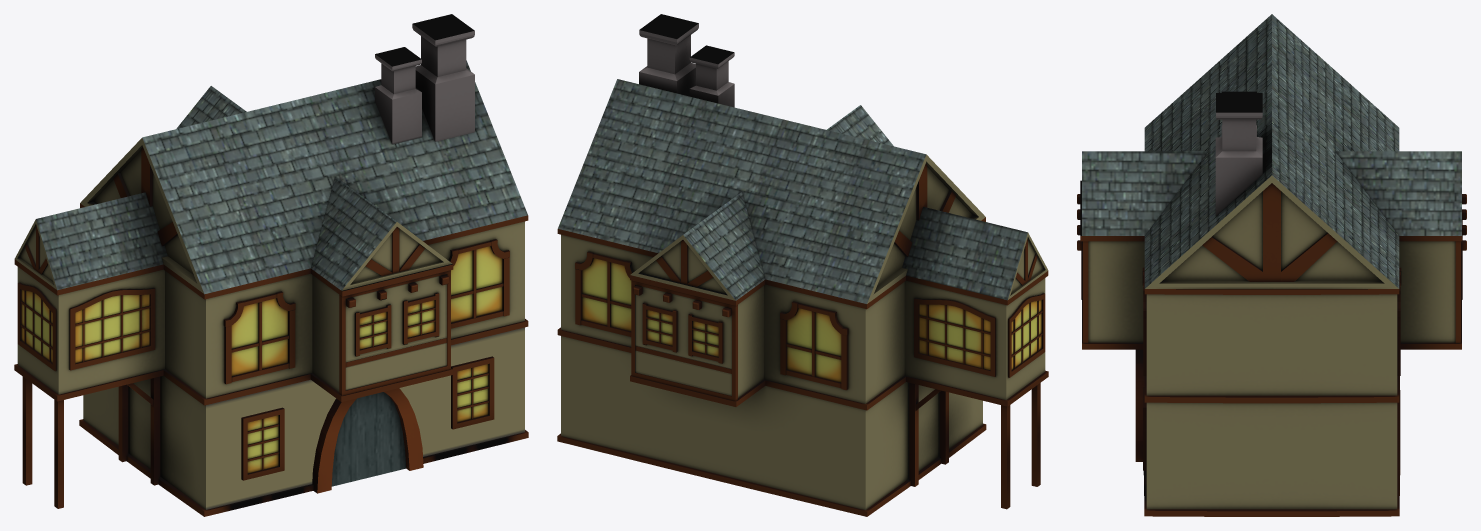
The model's file is House3.fbx.
The picture shows the model from 3 angles, left to right: view 1: azimuth 30°, elevation 25°; view 2: azimuth 150°, elevation 25°; view 3: azimuth 270°, elevation 25°; orthographic projection. The views are drawn at different scales.
Visible parts, largest first — view 1: Casa3.001; view 2: Casa3.001; view 3: Casa3.001.
Boxes of the visible parts, <box> form: Casa3.001: <box>14,14,528,516</box>; Casa3.001: <box>557,14,1048,516</box>; Casa3.001: <box>1077,14,1466,516</box>.
Size of the model in its own units: 812 by 694 by 622.
1 material, 1 textured.
